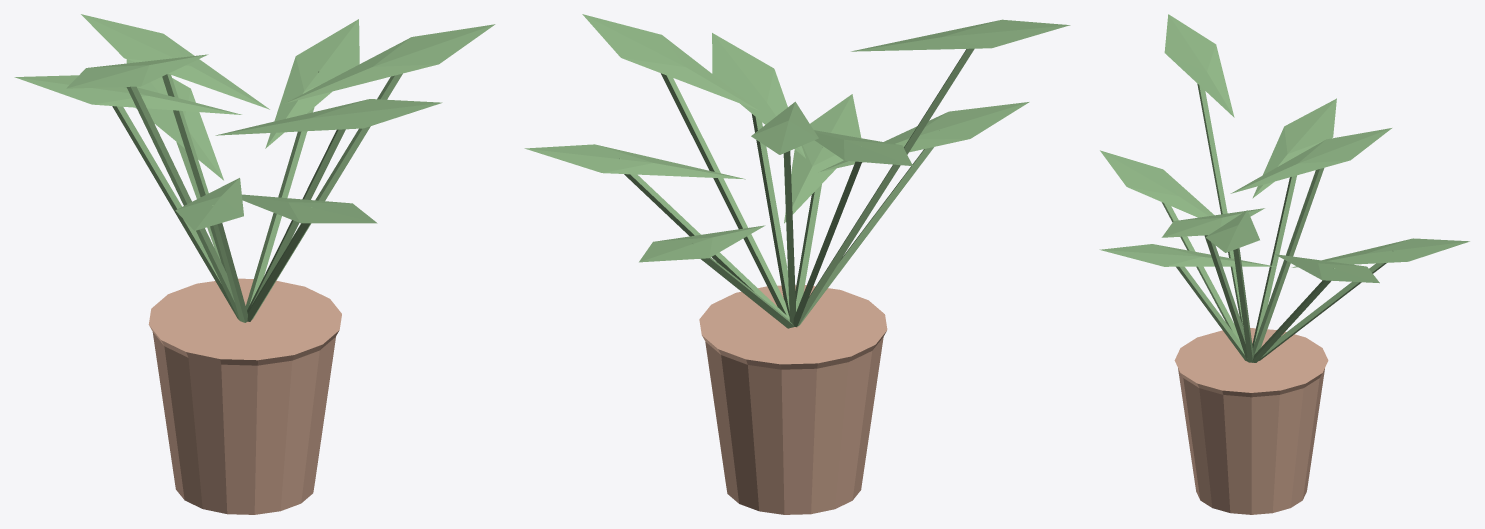
File: plant.glb
The picture shows the model from 3 angles, left to right: view 1: azimuth 30°, elevation 25°; view 2: azimuth 150°, elevation 25°; view 3: azimuth 270°, elevation 25°; orthographic projection. The views are drawn at different scales.
Visible parts, largest first — view 1: plant_plant, plant_pot; view 2: plant_plant, plant_pot; view 3: plant_plant, plant_pot.
Boxes of the visible parts, bbox=[...] form: plant_plant: bbox=[14, 14, 495, 322]; plant_pot: bbox=[148, 278, 341, 514]; plant_plant: bbox=[524, 14, 1070, 328]; plant_pot: bbox=[699, 285, 887, 514]; plant_plant: bbox=[1099, 14, 1469, 362]; plant_pot: bbox=[1174, 328, 1328, 514].
Size of the model in its own units: 1.38 by 1.39 by 1.21.
